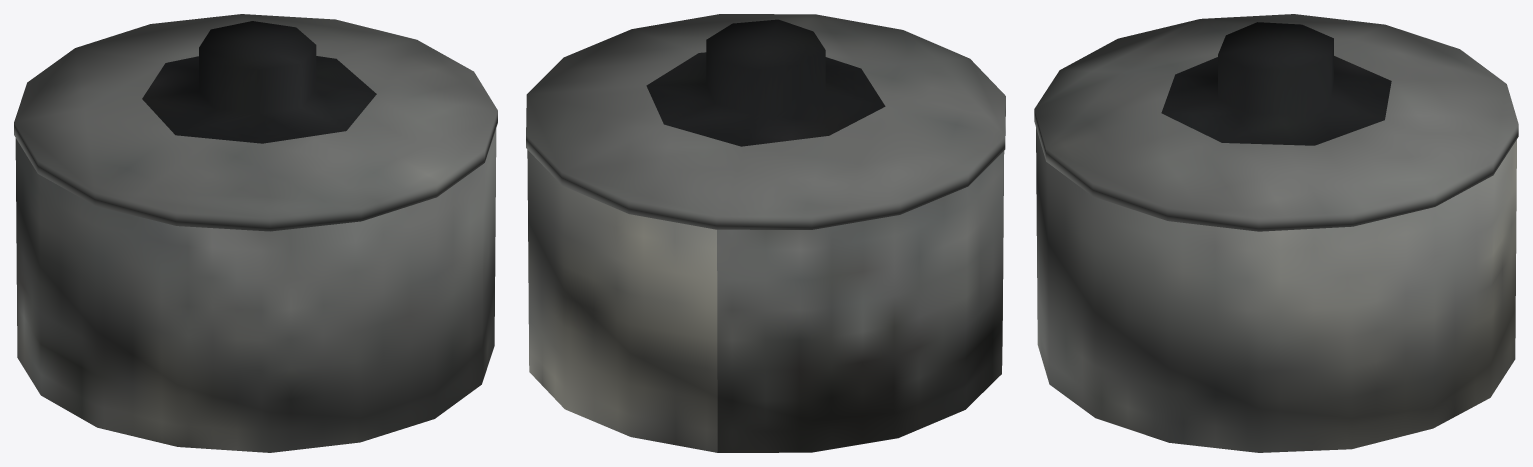
File: SM_EC_Pan_0.fbx
3 renders of one model, left to right at view 1: azimuth 30°, elevation 25°; view 2: azimuth 150°, elevation 25°; view 3: azimuth 270°, elevation 25°, orthographic.
Parts seen in each view (by area): view 1: SM_EC_Pan_0, SM_EC_Pan_Lid_0; view 2: SM_EC_Pan_0, SM_EC_Pan_Lid_0; view 3: SM_EC_Pan_0, SM_EC_Pan_Lid_0.
Boxes of the visible parts, x1=… form: SM_EC_Pan_0: x1=15, y1=128, x2=496, y2=452; SM_EC_Pan_Lid_0: x1=14, y1=14, x2=497, y2=231; SM_EC_Pan_0: x1=527, y1=150, x2=1004, y2=452; SM_EC_Pan_Lid_0: x1=526, y1=14, x2=1005, y2=229; SM_EC_Pan_0: x1=1036, y1=128, x2=1516, y2=452; SM_EC_Pan_Lid_0: x1=1034, y1=14, x2=1518, y2=231.
Bounding box in the file's own units: 0.3596 × 0.3596 × 0.2537.
